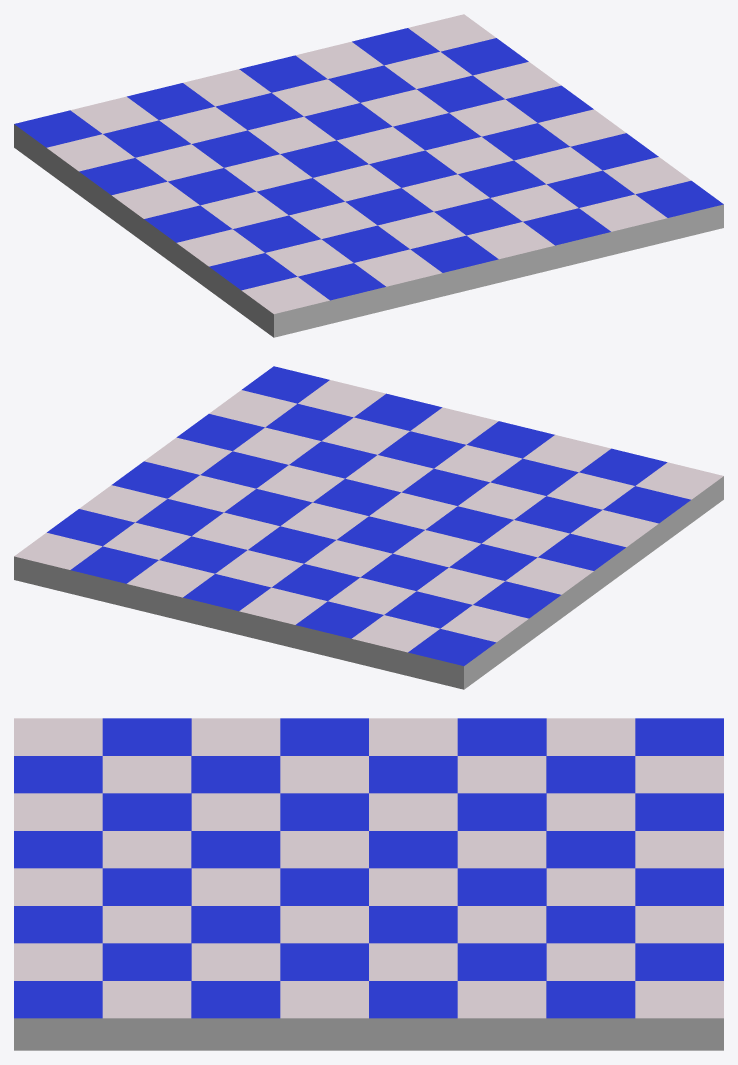
File: board.gltf
3 views of the same model, one above another, from view 1: azimuth 30°, elevation 25°; view 2: azimuth 150°, elevation 25°; view 3: azimuth 270°, elevation 25° (orthographic). The views are drawn at different scales.
Visible parts, largest first — view 1: Board; view 2: Board; view 3: Board.
Part boxes in pixels (left/top/right/bottom): Board: left=14, top=14, right=723, bottom=337; Board: left=14, top=366, right=723, bottom=689; Board: left=14, top=718, right=723, bottom=1050.
Size of the model in its own units: 4 by 0.2 by 4.
